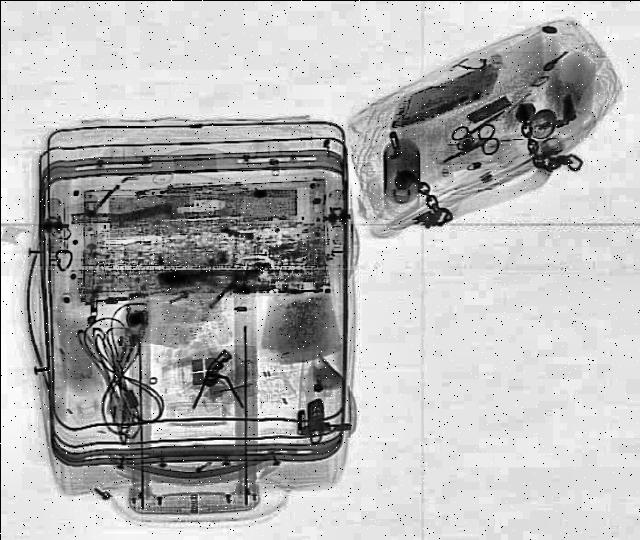Scissors: (432, 123, 510, 173), (444, 106, 514, 153)
